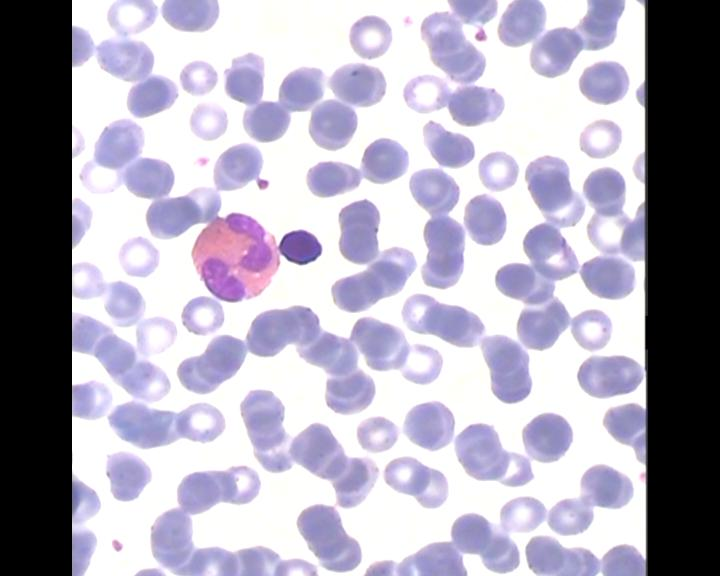eosi: (188, 208, 281, 302)
